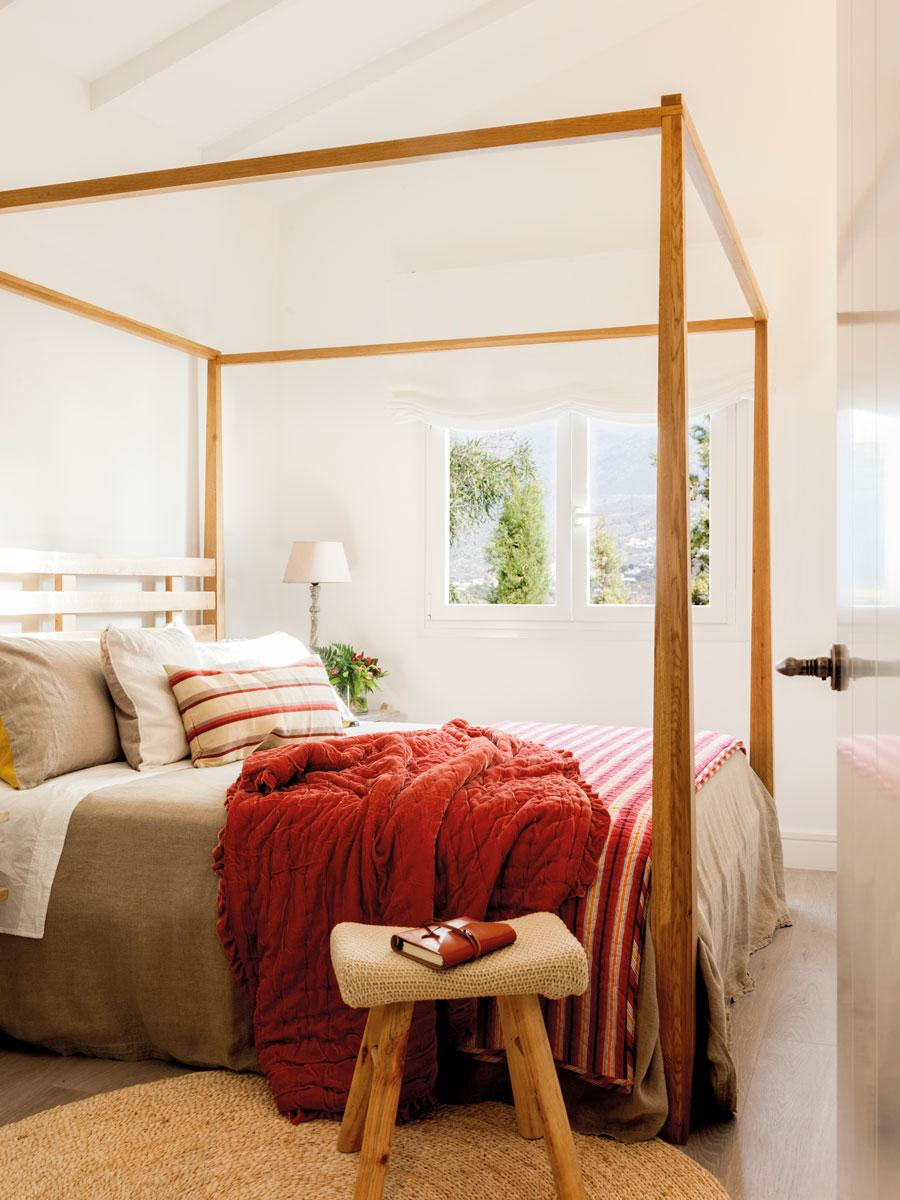bed: (0, 502, 742, 918)
